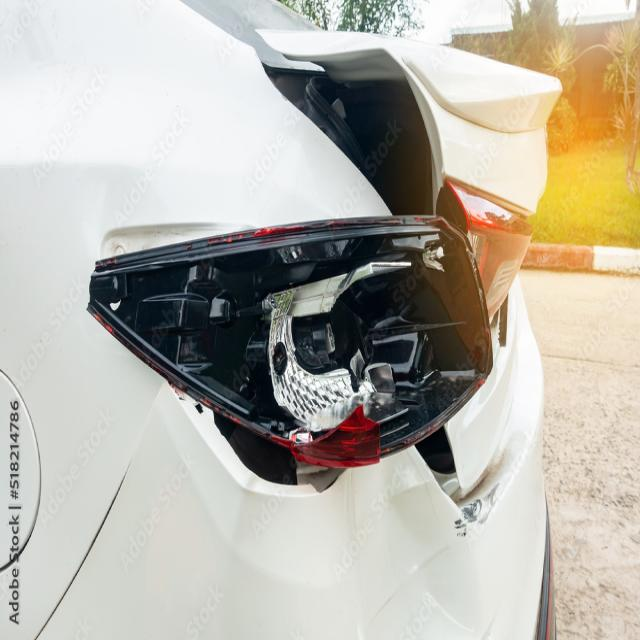Head Light: (104, 138, 508, 557)
